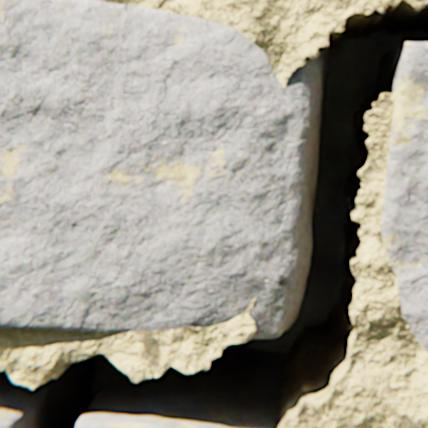brick: (0, 0, 299, 331), (381, 43, 427, 351), (76, 417, 181, 427), (0, 418, 15, 427)
crack: (0, 0, 427, 427)
